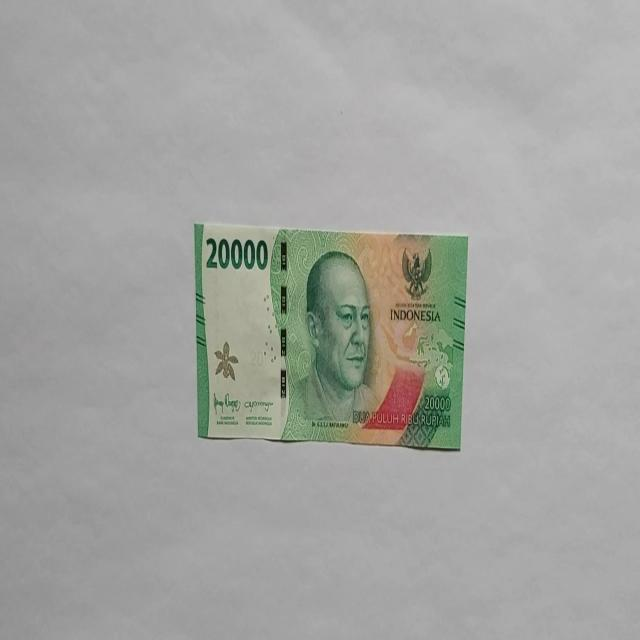dua puluh ribu rupiah: (194, 220, 468, 450), (287, 248, 383, 438)
